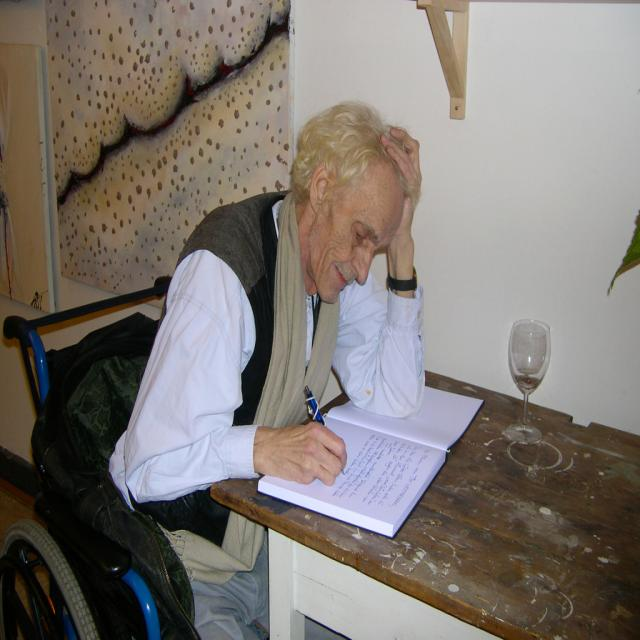chair: (0, 279, 199, 639)
desk: (210, 372, 640, 639)
laptop: (257, 376, 481, 538)
person: (115, 92, 428, 626)
